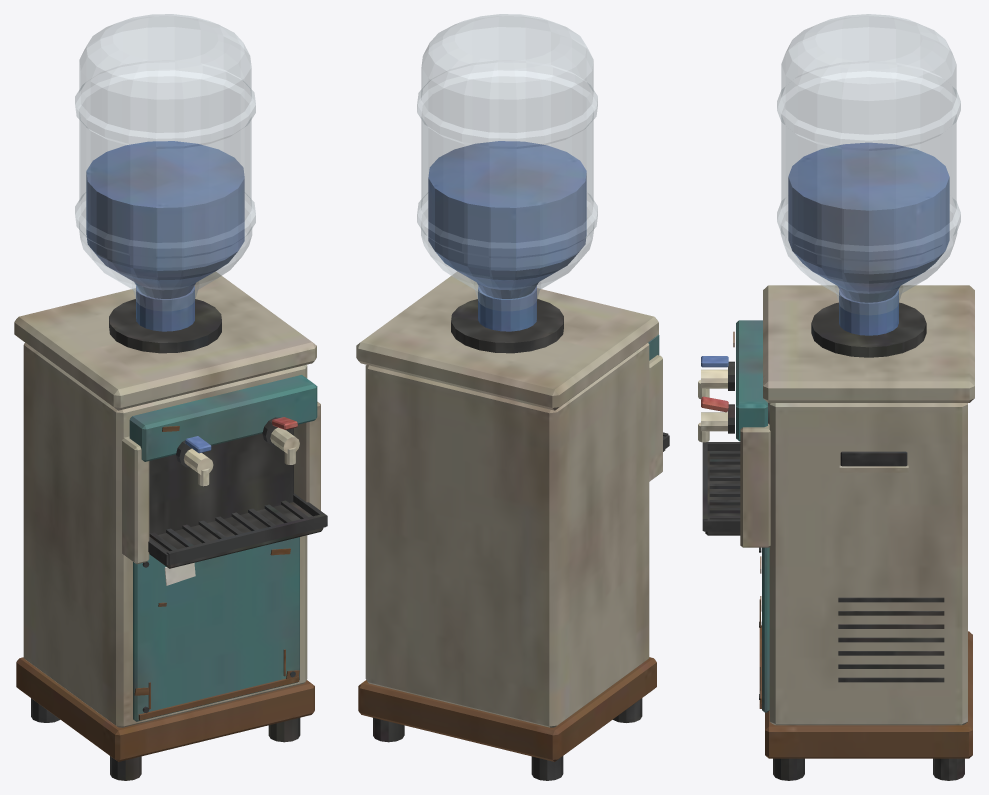
File: O13_water_dispenser.glb
3 views of the same model, side by side, from view 1: azimuth 30°, elevation 25°; view 2: azimuth 150°, elevation 25°; view 3: azimuth 270°, elevation 25° (orthographic).
Visible parts, largest first — view 1: Rubber foot; view 2: Rubber foot; view 3: Rubber foot.
Boxes of the visible parts, <box> form: Rubber foot: <box>14,14,327,780</box>; Rubber foot: <box>356,14,669,780</box>; Rubber foot: <box>698,14,974,780</box>.
Size of the model in its own units: 0.371 by 1.2 by 0.4325.
10 materials, 9 textured.
